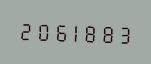eight: (97, 20, 112, 45), (81, 20, 96, 44)
one: (65, 19, 80, 44)
six: (49, 19, 64, 43)
three: (113, 21, 128, 45)
two: (17, 17, 32, 42)
zero: (33, 18, 48, 43)
